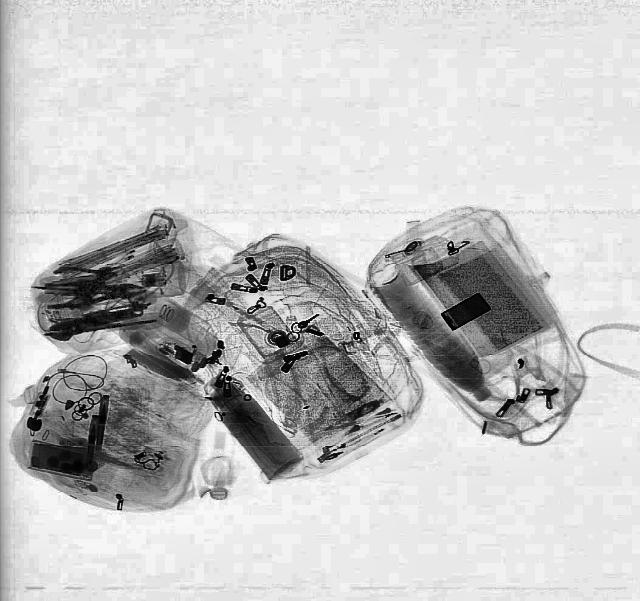Pliers: (50, 278, 142, 310), (50, 259, 120, 291)
Wrench: (44, 299, 146, 344)
